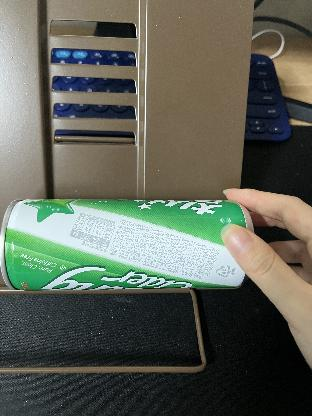Can: (0, 198, 252, 292)
